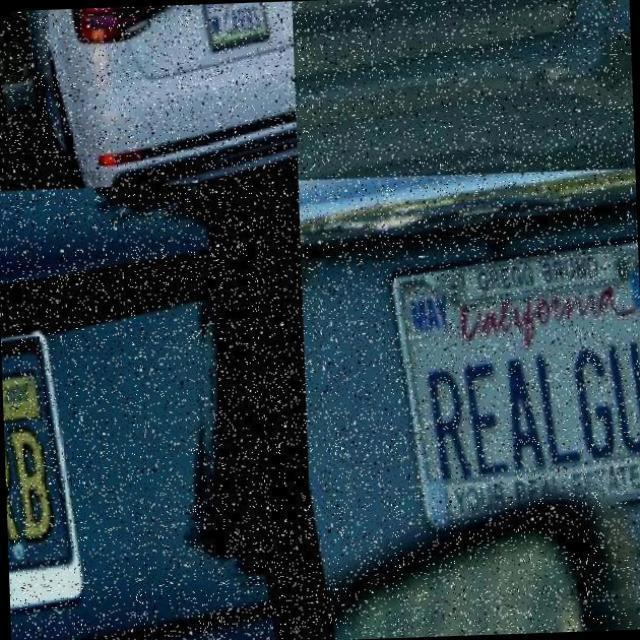License Plate: (383, 224, 640, 551), (0, 304, 164, 640), (291, 0, 403, 58), (200, 2, 272, 54)
